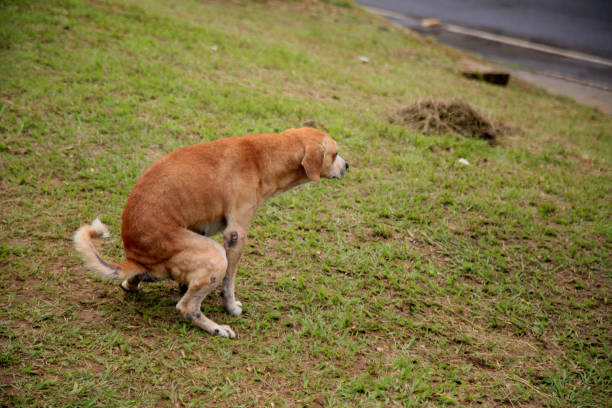dog_pooping: (70, 122, 354, 341)
